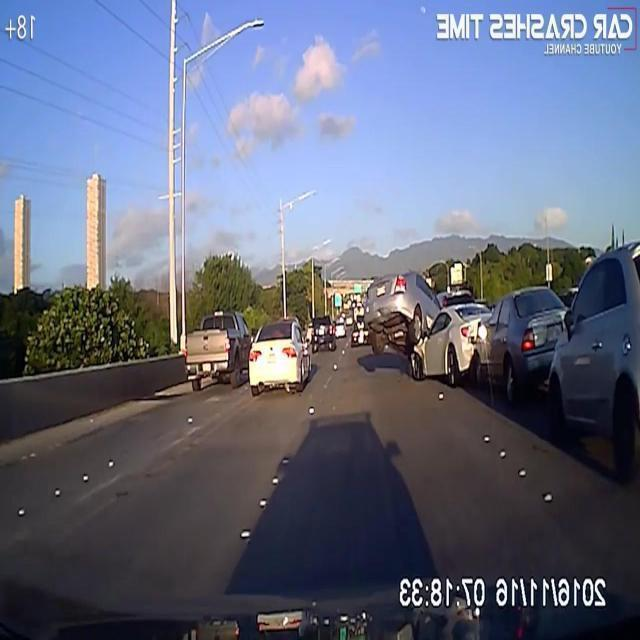multiple_accident: (359, 243, 466, 397)
